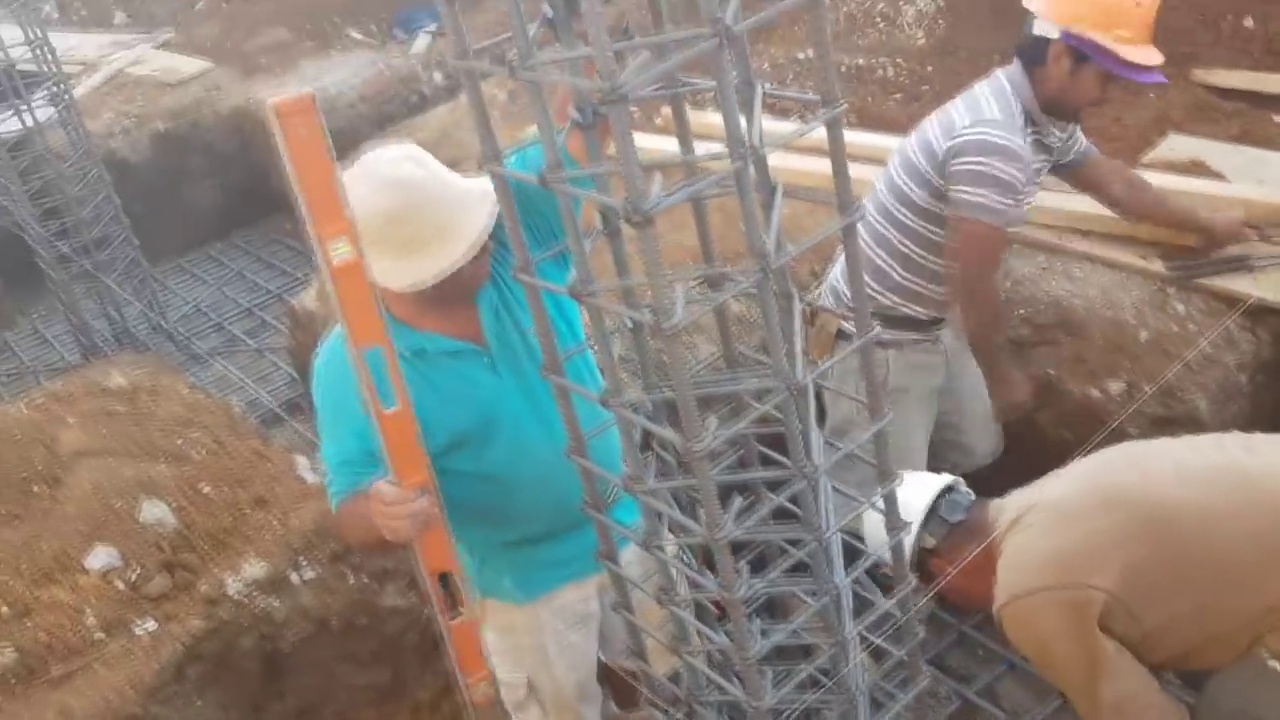helmet: (871, 463, 964, 601), (1023, 0, 1171, 86)
helmet-off: (328, 144, 518, 342)
helmet-on: (858, 447, 1017, 630), (1000, 1, 1167, 129)
person: (285, 1, 668, 713), (810, 1, 1243, 483), (849, 431, 1280, 706)
